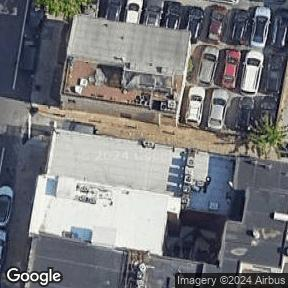vegetation: (35, 0, 96, 24)
